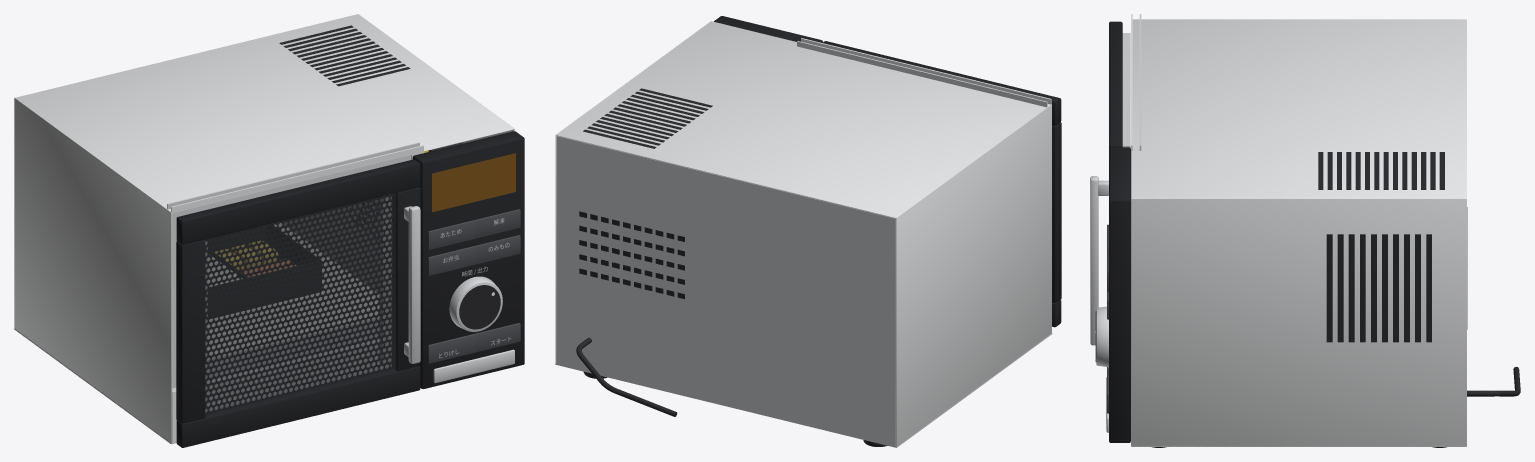
The model's file is microwave.glb.
The picture shows the model from 3 angles, left to right: view 1: azimuth 30°, elevation 25°; view 2: azimuth 150°, elevation 25°; view 3: azimuth 270°, elevation 25°; orthographic projection. The views are drawn at different scales.
Parts seen in each view (by area): view 1: OuterCover, DoorGlass, DoorFrame, DoorMesh, PanelBody, CavityBox, FrontFrame, GlassFloor, Bento, Display, DoorChoke, BasePlate; view 2: OuterCover, BackPanel, DoorFrame, CavityBox, BasePlate, FrontFrame, PanelBody; view 3: OuterCover, PanelBody, DoorFrame, DoorChoke, BackPanel, BasePlate.
Boxes of the visible parts, <box> form: OuterCover: <box>14,14,514,443</box>; DoorGlass: <box>205,193,396,417</box>; DoorFrame: <box>176,159,420,447</box>; DoorMesh: <box>205,194,393,414</box>; PanelBody: <box>412,131,524,389</box>; CavityBox: <box>167,142,419,388</box>; FrontFrame: <box>171,145,423,442</box>; GlassFloor: <box>208,223,378,360</box>; Bento: <box>208,226,321,318</box>; Display: <box>432,153,515,212</box>; DoorChoke: <box>205,197,391,412</box>; BasePlate: <box>14,328,378,444</box>; OuterCover: <box>555,21,1051,446</box>; BackPanel: <box>556,136,895,445</box>; DoorFrame: <box>822,41,1061,327</box>; CavityBox: <box>797,41,1047,107</box>; BasePlate: <box>555,333,1052,447</box>; FrontFrame: <box>801,38,1051,104</box>; PanelBody: <box>714,16,822,42</box>; OuterCover: <box>1131,19,1466,446</box>; PanelBody: <box>1095,147,1130,442</box>; DoorFrame: <box>1090,21,1122,345</box>; DoorChoke: <box>1122,33,1130,147</box>; BackPanel: <box>1467,207,1520,396</box>; BasePlate: <box>1131,445,1466,447</box>.
Size of the model in its own units: 0.5002 by 0.343 by 0.5062.
Materials: 33 (2 with a texture image).
